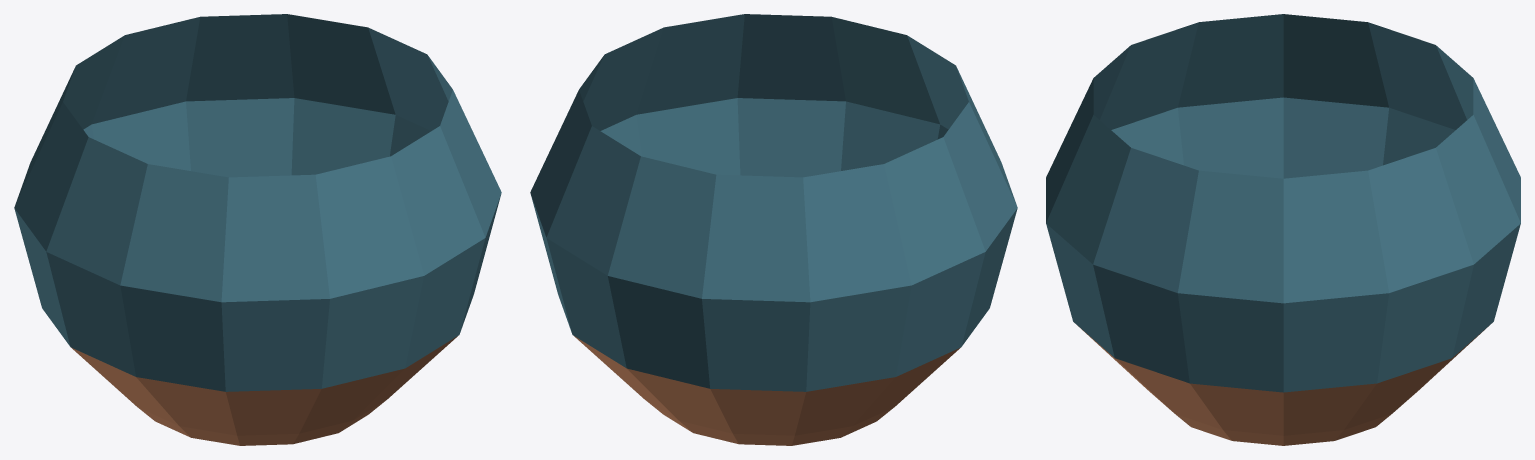
The model's file is vase-broken.glb.
3 views of the same model, side by side, from view 1: azimuth 30°, elevation 25°; view 2: azimuth 150°, elevation 25°; view 3: azimuth 270°, elevation 25° (orthographic).
Visible parts, largest first — view 1: vase-broken; view 2: vase-broken; view 3: vase-broken.
Boxes of the visible parts, x1=… form: vase-broken: x1=14, y1=14, x2=501, y2=445; vase-broken: x1=530, y1=14, x2=1017, y2=445; vase-broken: x1=1046, y1=14, x2=1520, y2=445.
Size of the model in its own units: 1.4 by 0.95 by 1.36.
